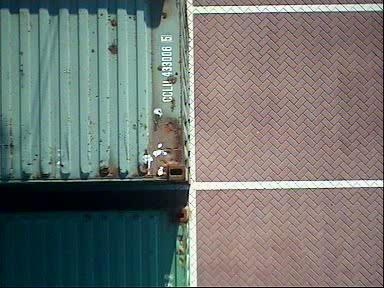groundmarker_2: (99, 67, 161, 99), (99, 249, 162, 280)
